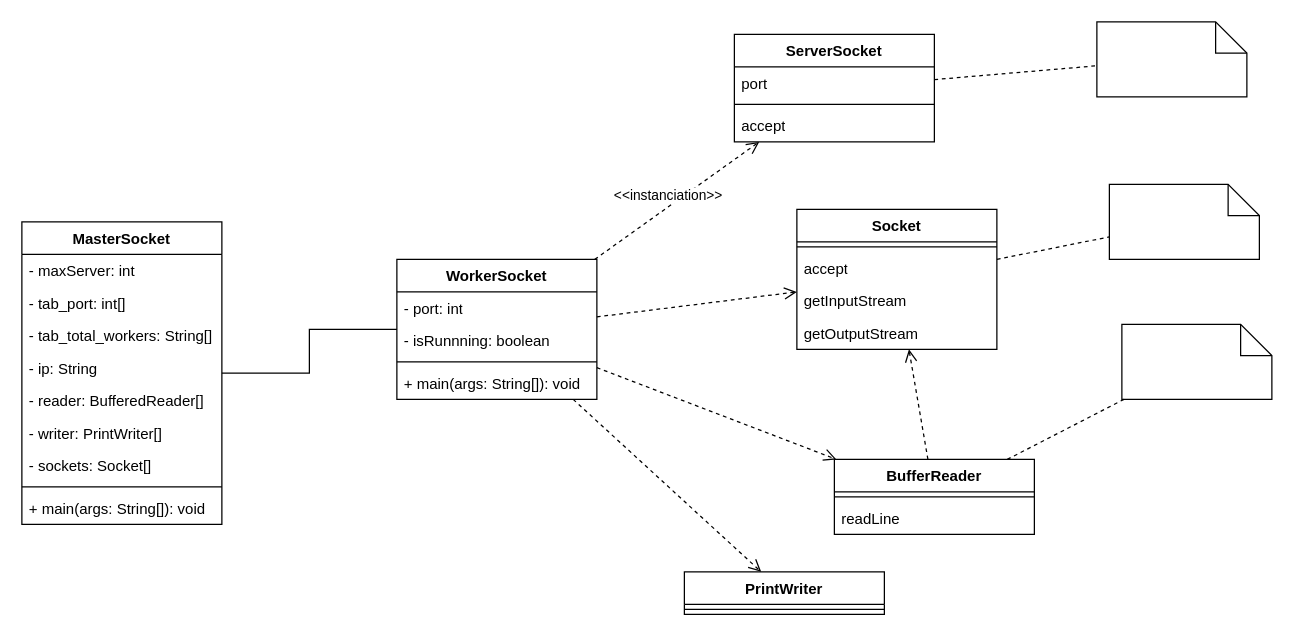
Image size: 1294x636. Some labels were removed from this diagram. Each missing label, with the centre of its shape:
"bRead" goes at [1196,361].
"s ip, port" goes at [1171,59].
"soc" goes at [1183,221].
